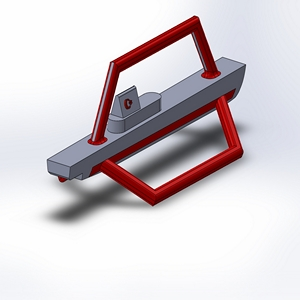submarine: (12, 5, 272, 218)
